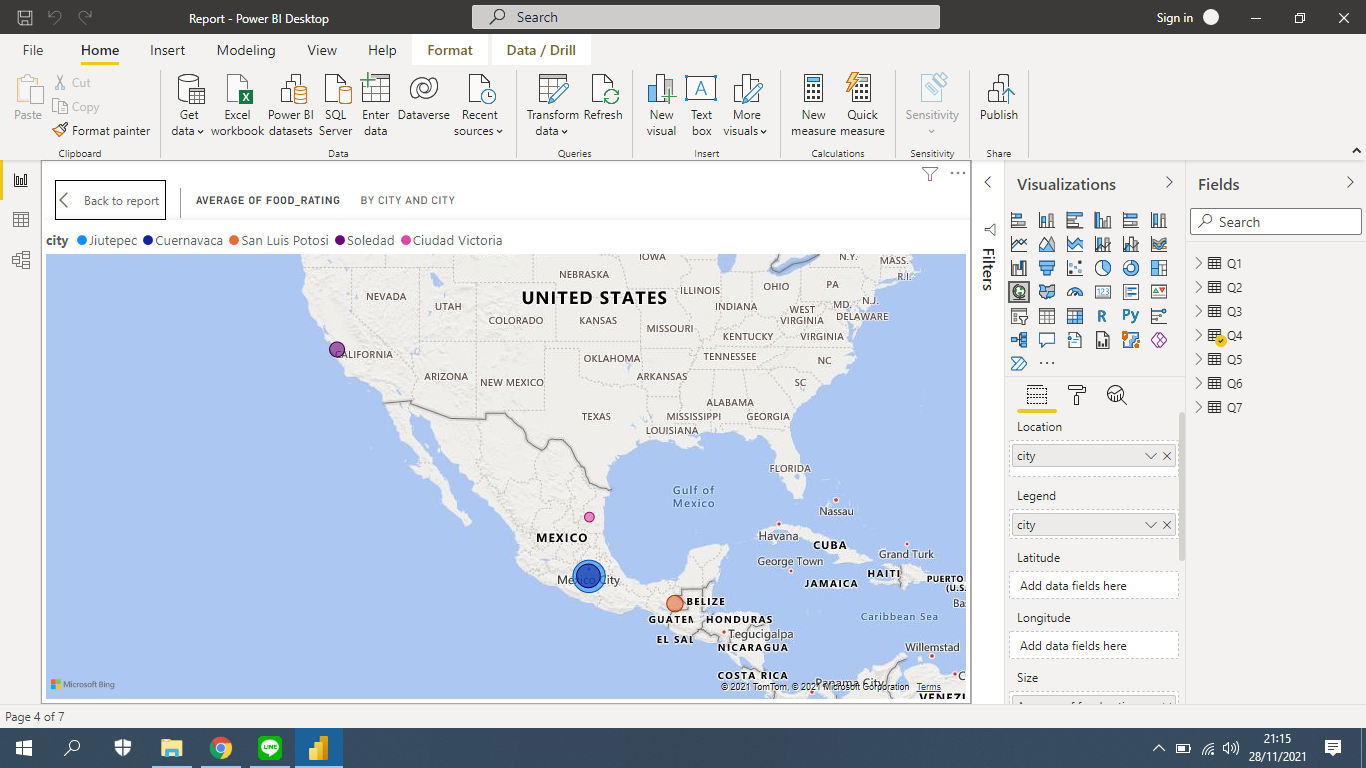

This screenshot's page, from the dashboard's own definition file:
{"tool":"powerbi","page":{"name":"Q4","canvas":[1280,720],"ordinal":3},"visuals":[{"type":"map","fields":{"Category":["Q4.city"],"Size":["Avg(Q4.food_rating)"],"Series":["Q4.city"]},"box":[66.1,83.4,796.2,383.7],"z":0},{"type":"actionButton","box":[0,0,100,40],"z":1000}]}

Visuals, with their boxes on the page's 1280x720 design canvas (x1, y1, x2, y2). These are canvas units, not pixel positions in the 1366x768 screenshot, which may show the page scaled, cropped or inside an application window:
map - Q4.city x Avg(Q4.food_rating): region(66, 83, 862, 467)
actionButton: region(0, 0, 100, 40)
